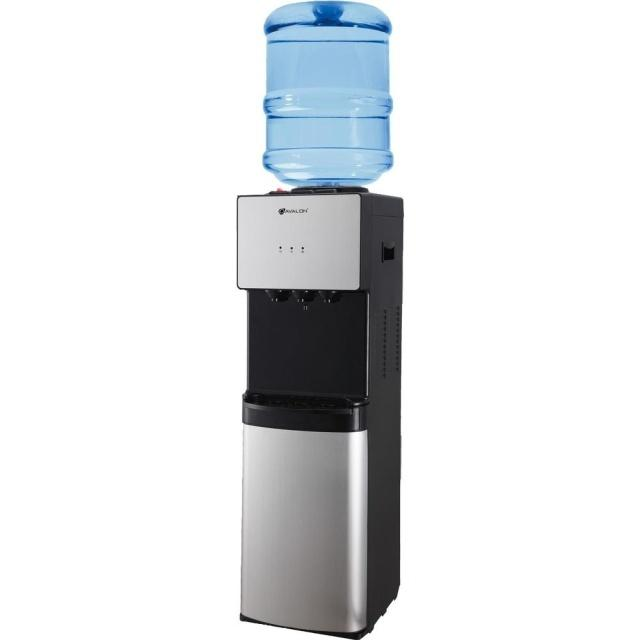Dispenser: (235, 0, 403, 639)
